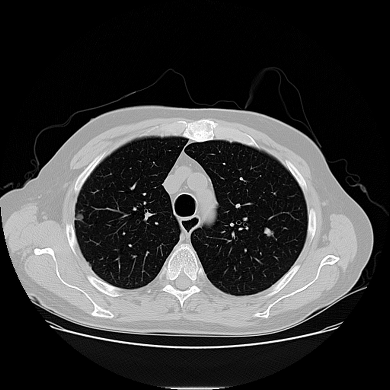nodule: (265, 228, 273, 236)
